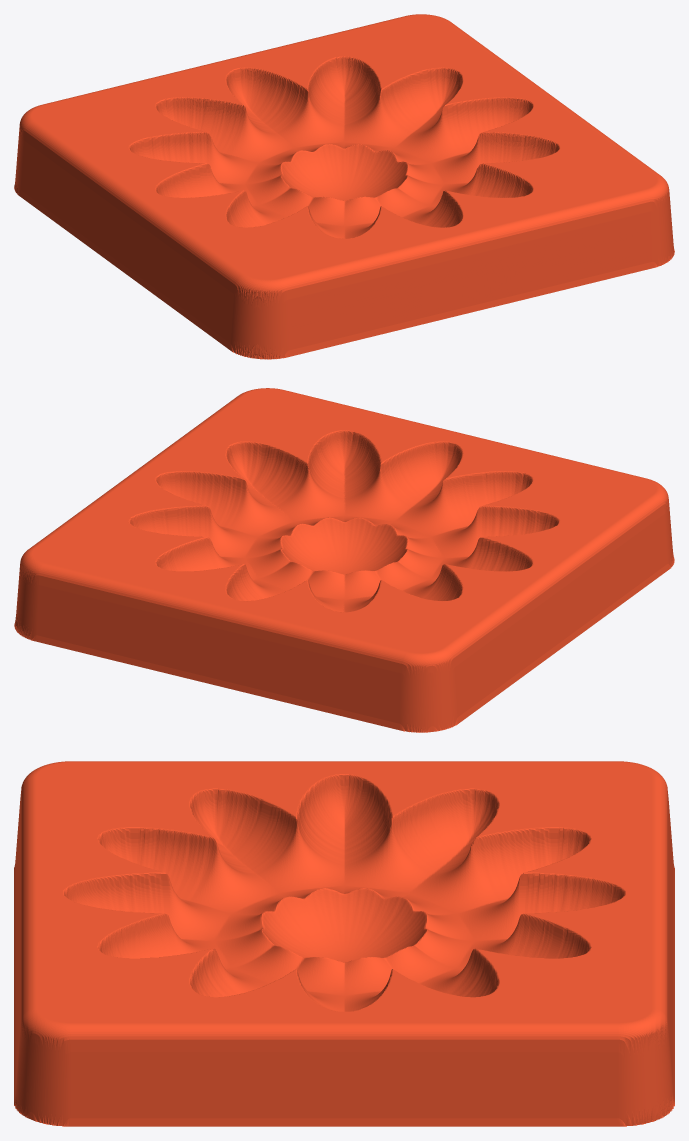
File: mold.glb
The picture shows the model from 3 angles, top to bottom: view 1: azimuth 30°, elevation 25°; view 2: azimuth 150°, elevation 25°; view 3: azimuth 270°, elevation 25°; orthographic projection. The views are drawn at different scales.
Visible parts, largest first — view 1: geometry_0; view 2: geometry_0; view 3: geometry_0.
Part boxes in pixels (x1,y1,x2,y2): geometry_0: (14,14,674,359); geometry_0: (14,388,674,732); geometry_0: (14,761,674,1126).
Size of the model in its own units: 0.105 by 0.0165 by 0.105.
